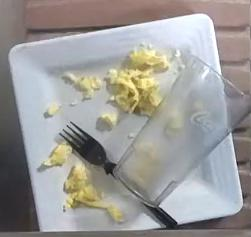scrambled_eggs: (37, 144, 106, 209), (104, 46, 167, 114)
